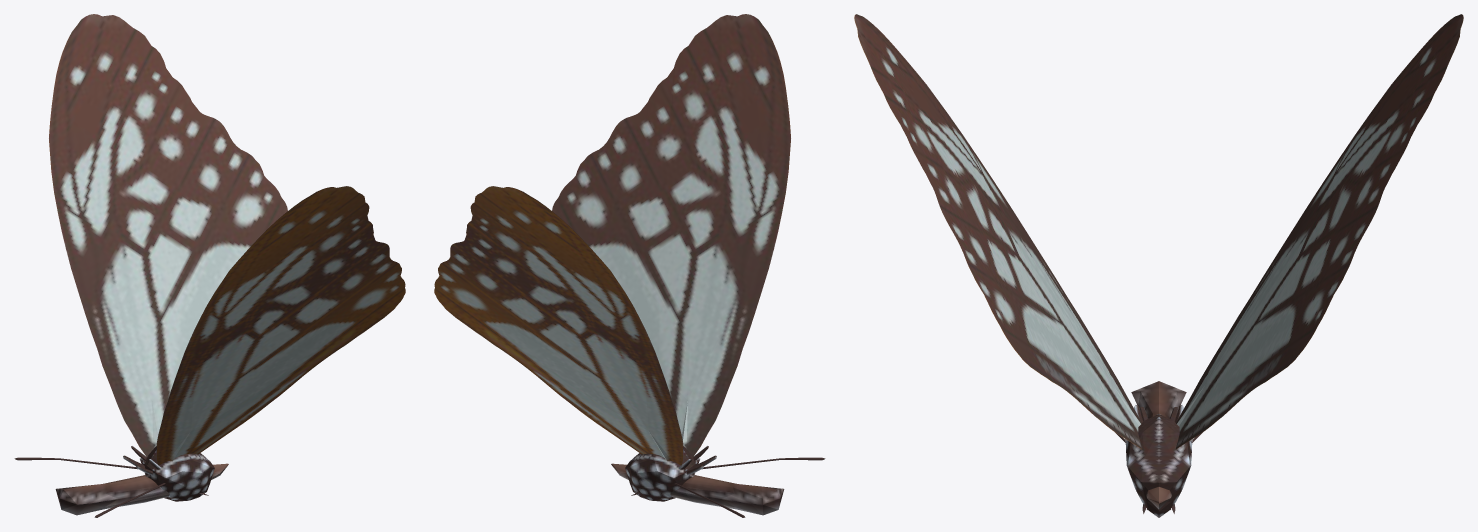
File: papi.DAE
3 renders of one model, left to right at view 1: azimuth 30°, elevation 25°; view 2: azimuth 150°, elevation 25°; view 3: azimuth 270°, elevation 25°, orthographic. The views are drawn at different scales.
Visible parts, largest first — view 1: object29, object30, object11, BodyL; view 2: object30, object29, object11, BodyL; view 3: object29, object30, BodyL, object11.
Part boxes in pixels (x1,y1,x2,y2): object29: (49, 14, 287, 457); object30: (156, 186, 405, 465); object11: (55, 463, 228, 515); BodyL: (140, 446, 214, 501); object30: (552, 14, 790, 457); object29: (434, 186, 683, 465); object11: (611, 463, 784, 515); BodyL: (625, 446, 699, 501); object29: (1176, 14, 1463, 449); object30: (854, 14, 1141, 449); BodyL: (1125, 414, 1192, 517); object11: (1131, 381, 1186, 509).
Bounding box in the file's own units: 5.02 × 7.05 × 6.48.
